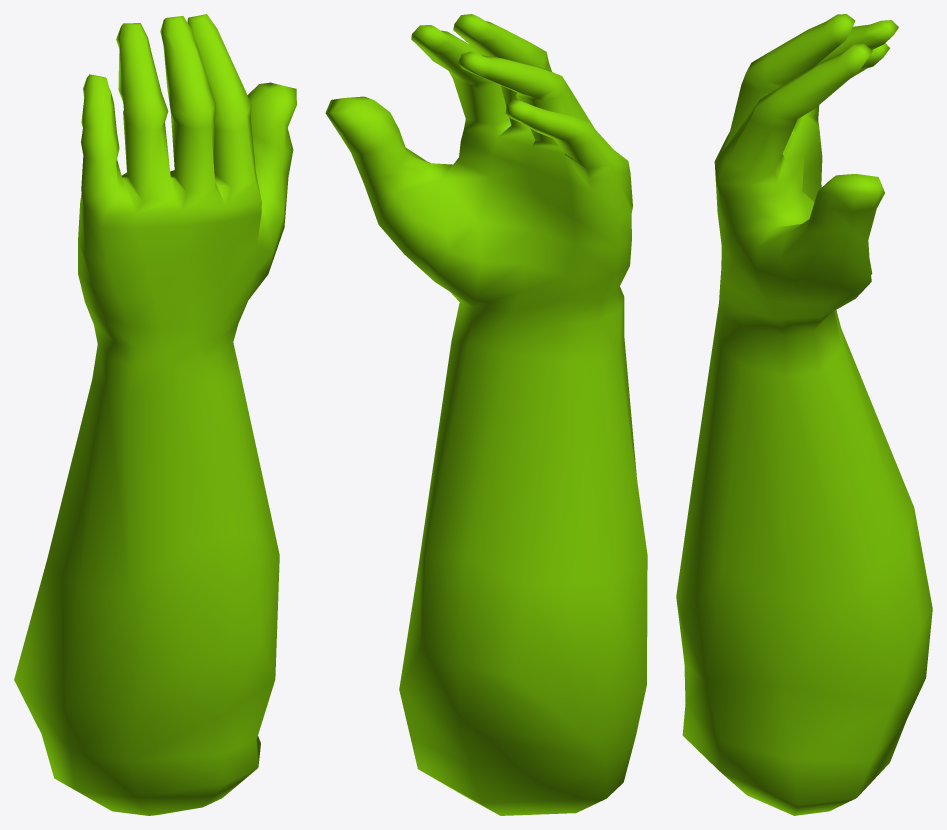
Rendered from Frenzy.glb.
The picture shows the model from 3 angles, left to right: view 1: azimuth 30°, elevation 25°; view 2: azimuth 150°, elevation 25°; view 3: azimuth 270°, elevation 25°; orthographic projection. The views are drawn at different scales.
Parts seen in each view (by area): view 1: Circle.006; view 2: Circle.006; view 3: Circle.006.
Boxes of the visible parts, left/top/right/bottom form: Circle.006: left=14, top=14, right=296, bottom=815; Circle.006: left=325, top=14, right=647, bottom=815; Circle.006: left=676, top=14, right=932, bottom=815.
Size of the model in its own units: 0.3902 by 1.07 by 0.3121.
